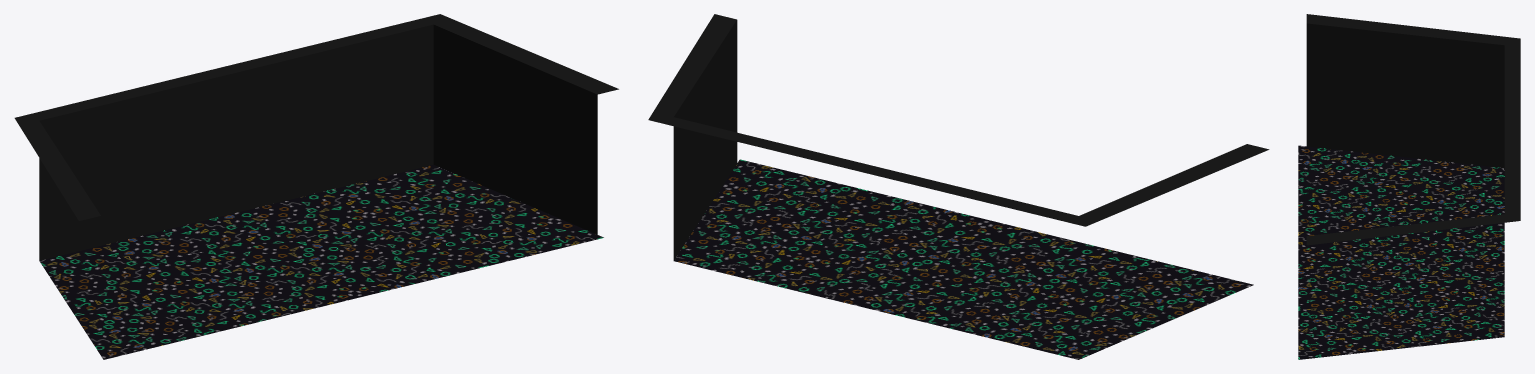
The model's file is walls.glb.
The picture shows the model from 3 angles, left to right: view 1: azimuth 30°, elevation 25°; view 2: azimuth 150°, elevation 25°; view 3: azimuth 270°, elevation 25°; orthographic projection. The views are drawn at different scales.
Visible parts, largest first — view 1: walls; view 2: walls; view 3: walls.
Part boxes in pixels (<box>): walls: <box>14,14,618,359</box>; walls: <box>648,14,1269,359</box>; walls: <box>1298,14,1520,359</box>.
Bounding box in the file's own units: 68.62 × 17 × 27.87.
Materials: 2 (1 with a texture image).
